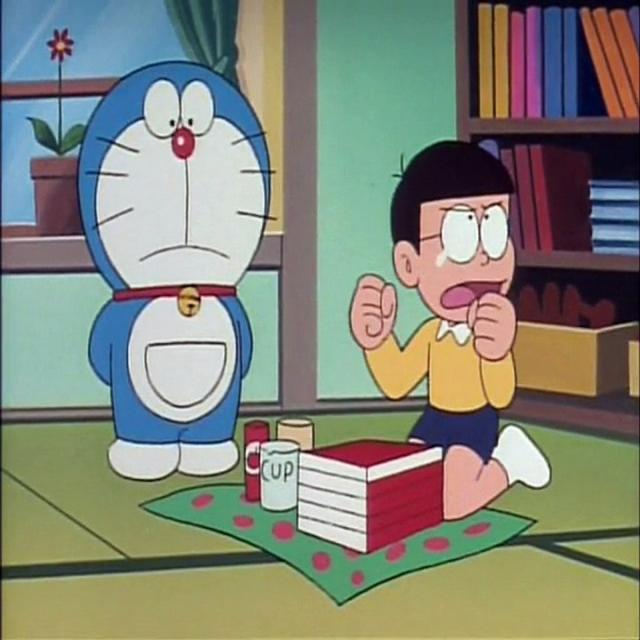doraemon: (76, 52, 276, 336)
nobita: (387, 133, 525, 354)
